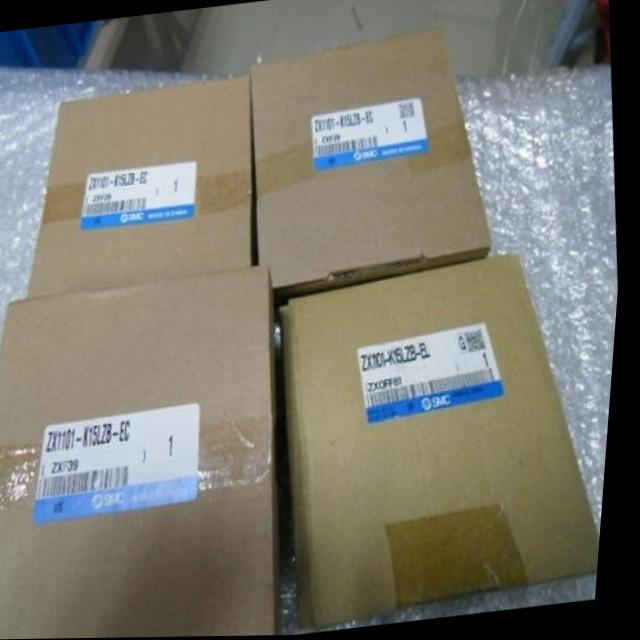box: (284, 252, 608, 630), (0, 266, 291, 640), (250, 24, 498, 295), (28, 74, 257, 301)
